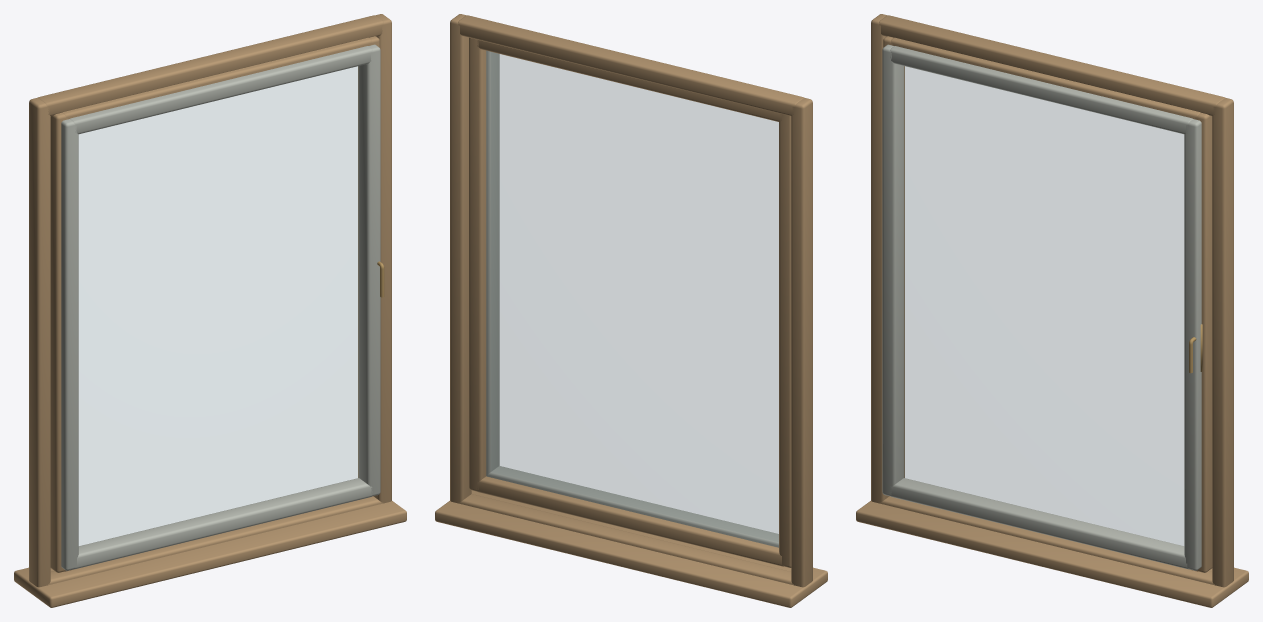
Rendered from window-tilt-turn.glb.
The picture shows the model from 3 angles, left to right: view 1: azimuth 30°, elevation 25°; view 2: azimuth 150°, elevation 25°; view 3: azimuth 330°, elevation 25°; orthographic projection.
Visible parts, largest first — view 1: catalog_surface_UVMap, catalog_surface_RealismUV; view 2: catalog_surface_UVMap, catalog_surface_RealismUV; view 3: catalog_surface_UVMap, catalog_surface_RealismUV.
Part boxes in pixels (x1=…): catalog_surface_UVMap: x1=79, y1=66, x2=358, y2=545; catalog_surface_RealismUV: x1=14, y1=14, x2=406, y2=607; catalog_surface_UVMap: x1=486, y1=51, x2=778, y2=547; catalog_surface_RealismUV: x1=435, y1=14, x2=827, y2=607; catalog_surface_UVMap: x1=904, y1=66, x2=1183, y2=545; catalog_surface_RealismUV: x1=856, y1=14, x2=1248, y2=607.
Size of the model in its own units: 1.1 by 1.45 by 0.2.
